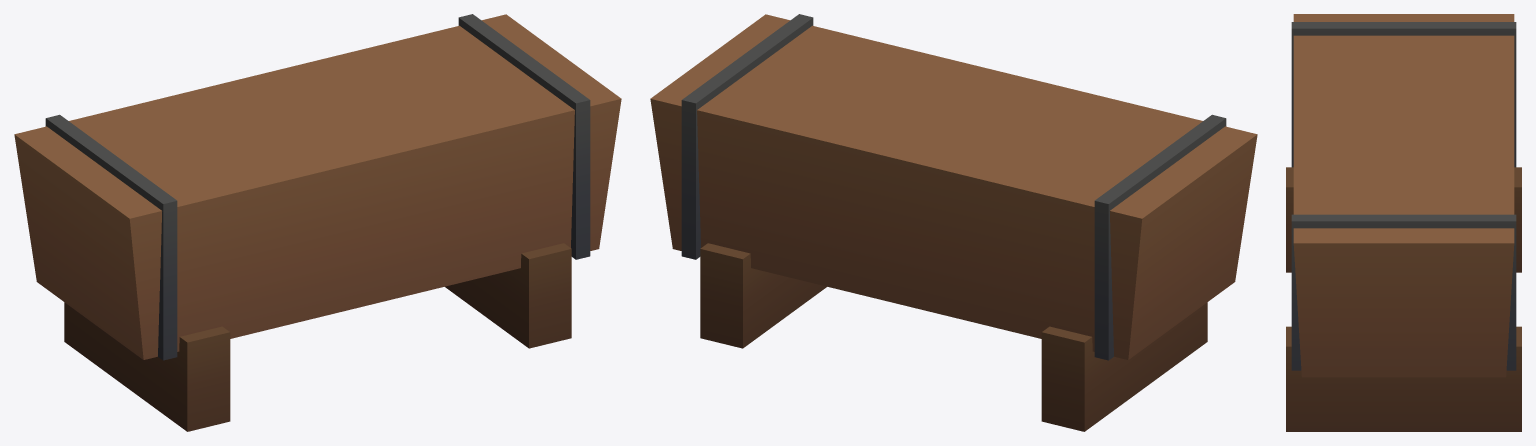
The model's file is trough.glb.
The picture shows the model from 3 angles, left to right: view 1: azimuth 30°, elevation 25°; view 2: azimuth 150°, elevation 25°; view 3: azimuth 270°, elevation 25°; orthographic projection. The views are drawn at different scales.
Visible parts, largest first — view 1: trough; view 2: trough; view 3: trough.
Boxes of the visible parts, x1,y1,x2,y2 form: trough: (14, 14, 621, 431); trough: (650, 14, 1257, 431); trough: (1286, 14, 1521, 431).
Size of the model in its own units: 6.91 by 3.1 by 3.
1 material, 1 textured.
